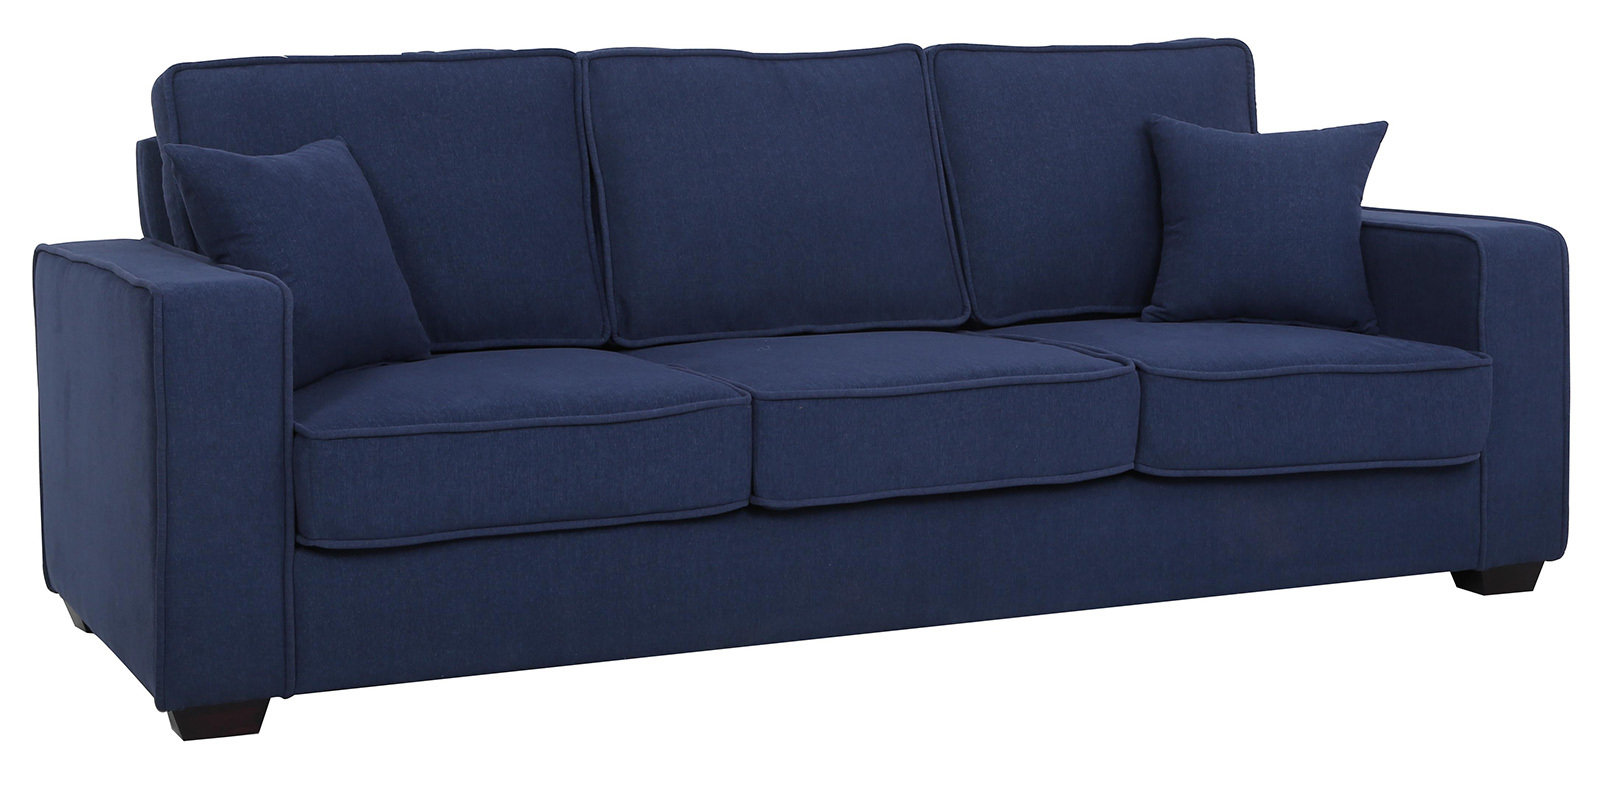Hugo Three Seater Sofa in Navy Blue Colour by CasaCraft: (16, 37, 1600, 782)
